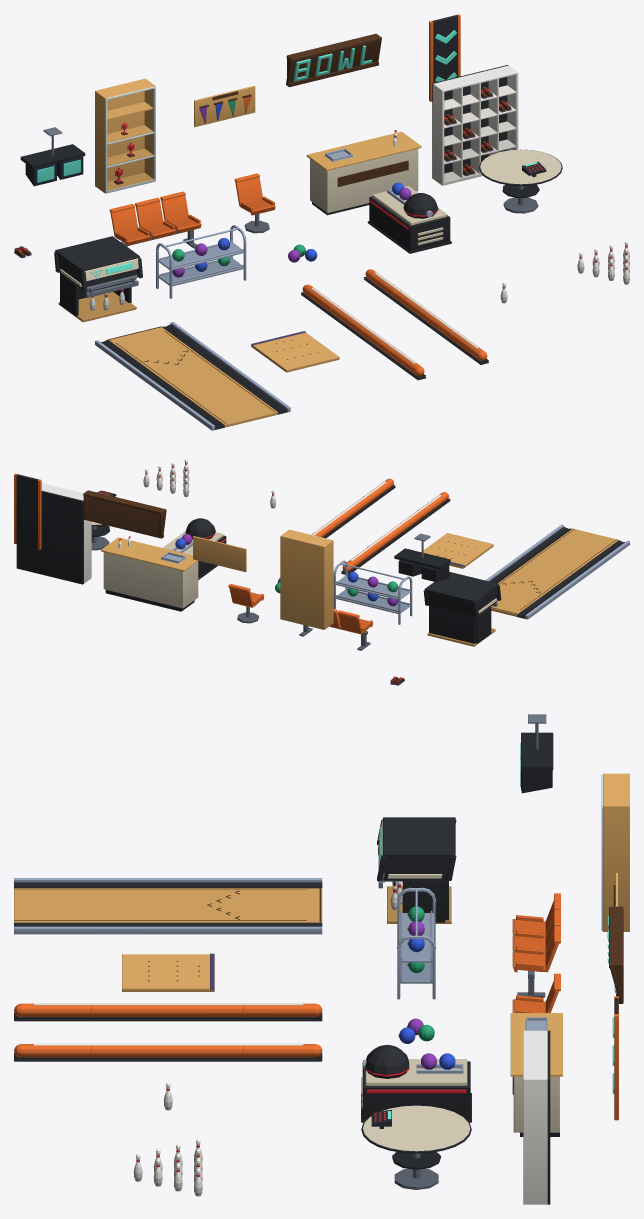
File: pack.fbx
3 views of the same model, one above another, from view 1: azimuth 30°, elevation 25°; view 2: azimuth 150°, elevation 25°; view 3: azimuth 270°, elevation 25° (orthographic). The views are drawn at different scales.
Parts seen in each view (by area): view 1: lane_section, cubby_wall, shoe_counter, trophy_case, pinsetter, lane_bumpers, ball_return, score_console, lane_bench_row, ball_rack, bowl_sign, lane_approach (+5 smaller); view 2: lane_section, shoe_counter, cubby_wall, trophy_case, pinsetter, lane_bumpers, bowl_sign, ball_rack, arrow_sign, monitor_rig, lane_approach, pennant_board (+5 smaller); view 3: lane_section, lane_bumpers, pinsetter, ball_return, score_console, cubby_wall, trophy_case, lane_approach, shoe_counter, ball_rack, lane_bench_row, monitor_rig (+4 smaller).
Boxes of the visible parts, box(x1,y1,x2,y2) form: lane_section: box(95, 321, 290, 430); cubby_wall: box(432, 65, 518, 185); shoe_counter: box(306, 130, 421, 215); trophy_case: box(95, 78, 155, 193); pinsetter: box(54, 236, 142, 322); lane_bumpers: box(301, 269, 488, 380); ball_return: box(367, 182, 451, 253); score_console: box(479, 149, 562, 213); lane_bench_row: box(109, 191, 201, 248); ball_rack: box(156, 225, 246, 298); bowl_sign: box(286, 33, 381, 87); lane_approach: box(251, 331, 339, 372); lane_section: box(485, 524, 629, 619); shoe_counter: box(101, 536, 198, 611); cubby_wall: box(16, 483, 91, 584); trophy_case: box(280, 529, 333, 629); pinsetter: box(423, 572, 501, 646); lane_bumpers: box(312, 478, 450, 574); bowl_sign: box(83, 490, 166, 538); ball_rack: box(333, 560, 412, 624); arrow_sign: box(14, 473, 41, 549); monitor_rig: box(394, 533, 450, 582); lane_approach: box(421, 533, 493, 568); pennant_board: box(193, 536, 246, 572); lane_section: box(14, 878, 322, 934); lane_bumpers: box(14, 1003, 322, 1061); pinsetter: box(377, 817, 456, 923); ball_return: box(361, 1044, 471, 1122); score_console: box(361, 1105, 471, 1189); cubby_wall: box(523, 1030, 550, 1204); trophy_case: box(601, 773, 629, 931); lane_approach: box(122, 953, 214, 991); shoe_counter: box(510, 1013, 562, 1136); ball_rack: box(397, 887, 436, 999); lane_bench_row: box(512, 893, 560, 997); monitor_rig: box(520, 714, 553, 793).
Size of the model in its own units: 9.86 by 2.74 by 7.99.
2 materials, 2 textured.
